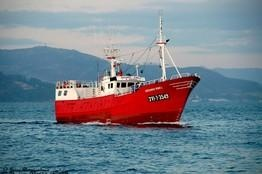otherboat: (52, 9, 200, 126)
